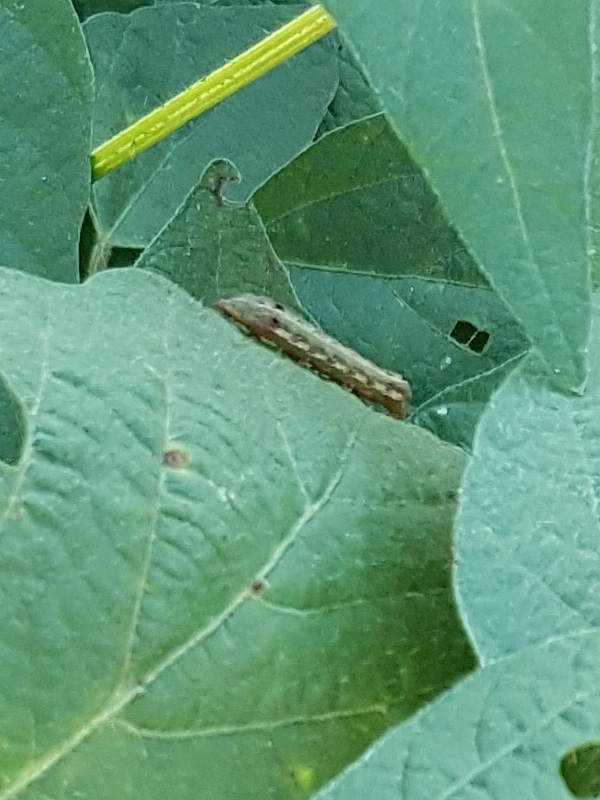Spodoptera_albula: (193, 263, 443, 452)
